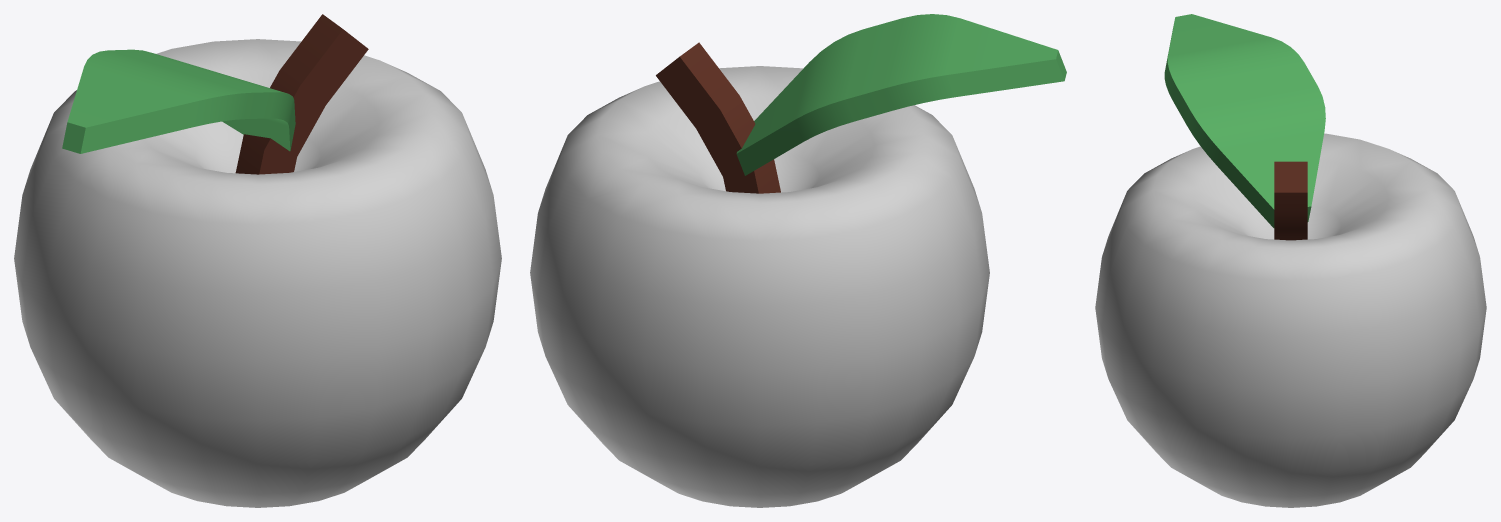
The model's file is Apple.fbx.
The picture shows the model from 3 angles, left to right: view 1: azimuth 30°, elevation 25°; view 2: azimuth 150°, elevation 25°; view 3: azimuth 270°, elevation 25°; orthographic projection. The views are drawn at different scales.
Visible parts, largest first — view 1: Apple; view 2: Apple; view 3: Apple.
Boxes of the visible parts, x1,y1,x2,y2 form: Apple: (14,14,501,507); Apple: (530,14,1066,507); Apple: (1095,14,1486,507).
Size of the model in its own units: 48.58 by 46.79 by 43.6.
